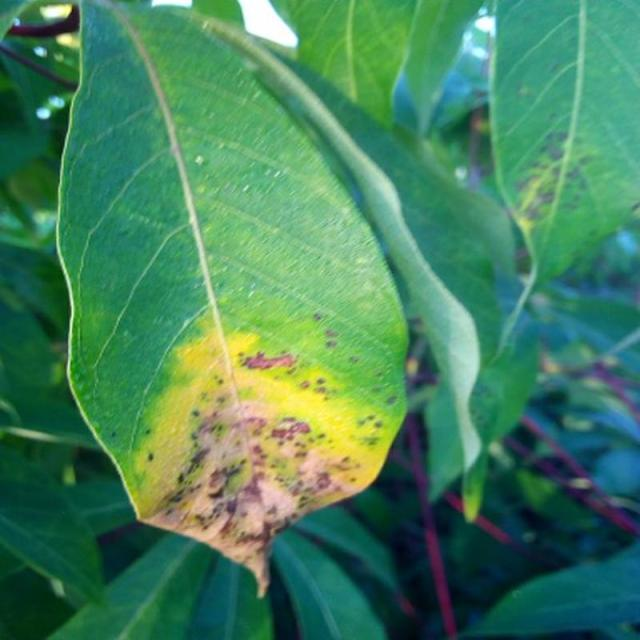cassava leaf: (53, 0, 412, 597), (487, 0, 639, 288)
